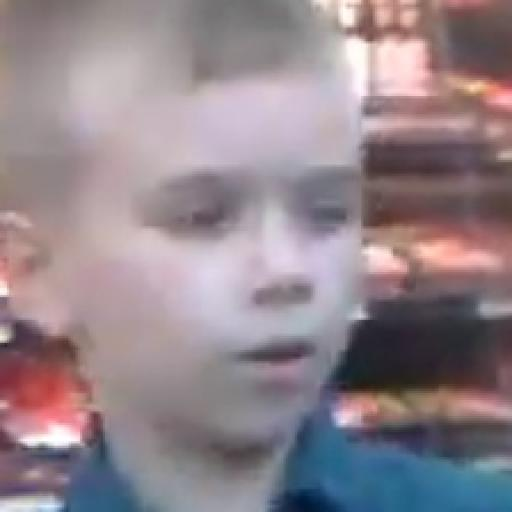Autism: (5, 4, 361, 482)
